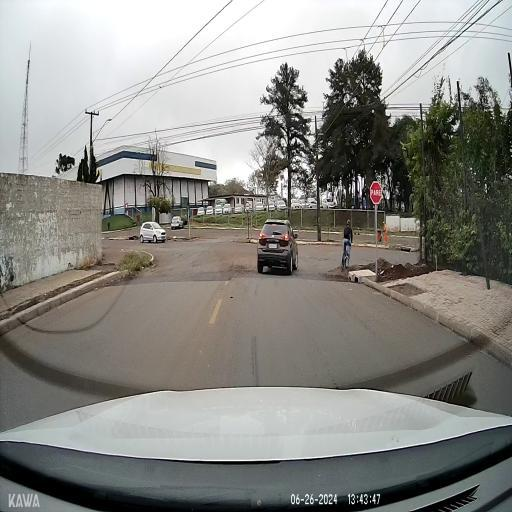R-1: (369, 180, 382, 204)
